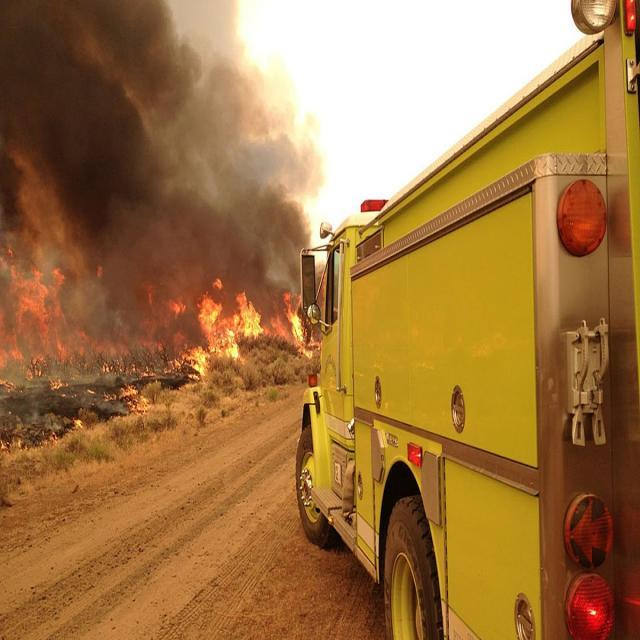Fire: (166, 276, 271, 388), (274, 276, 318, 365)
Smoke: (0, 0, 319, 318), (0, 0, 172, 395)
